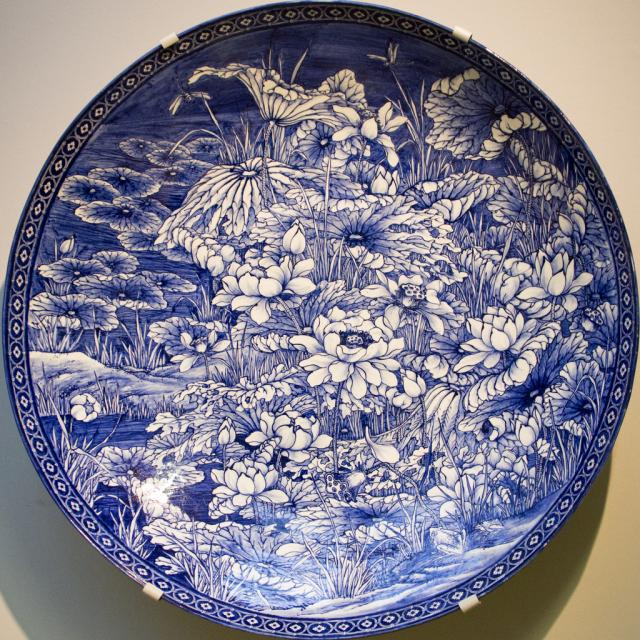non-organic waste: (0, 0, 620, 618)
